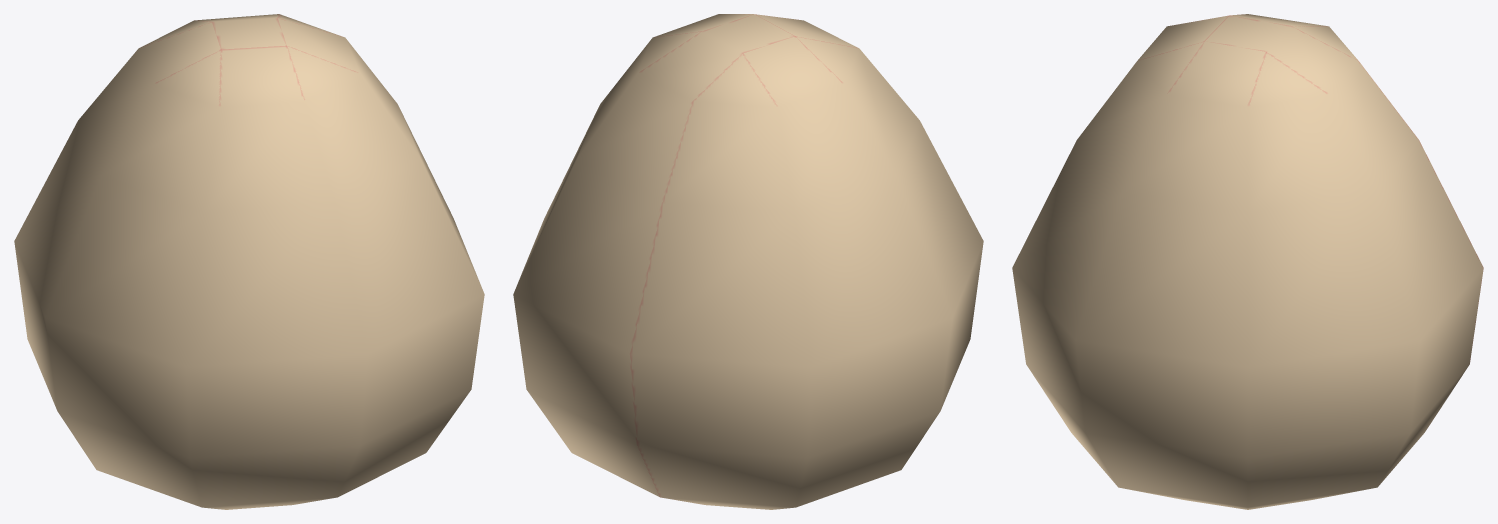
File: egg.fbx
The picture shows the model from 3 angles, left to right: view 1: azimuth 30°, elevation 25°; view 2: azimuth 150°, elevation 25°; view 3: azimuth 270°, elevation 25°; orthographic projection.
Parts seen in each view (by area): view 1: egg; view 2: egg; view 3: egg.
Boxes of the visible parts, bbox=[...] form: egg: bbox=[14, 14, 484, 509]; egg: bbox=[513, 14, 983, 509]; egg: bbox=[1012, 14, 1483, 509].
Size of the model in its own units: 0.6444 by 0.6749 by 0.6444.
